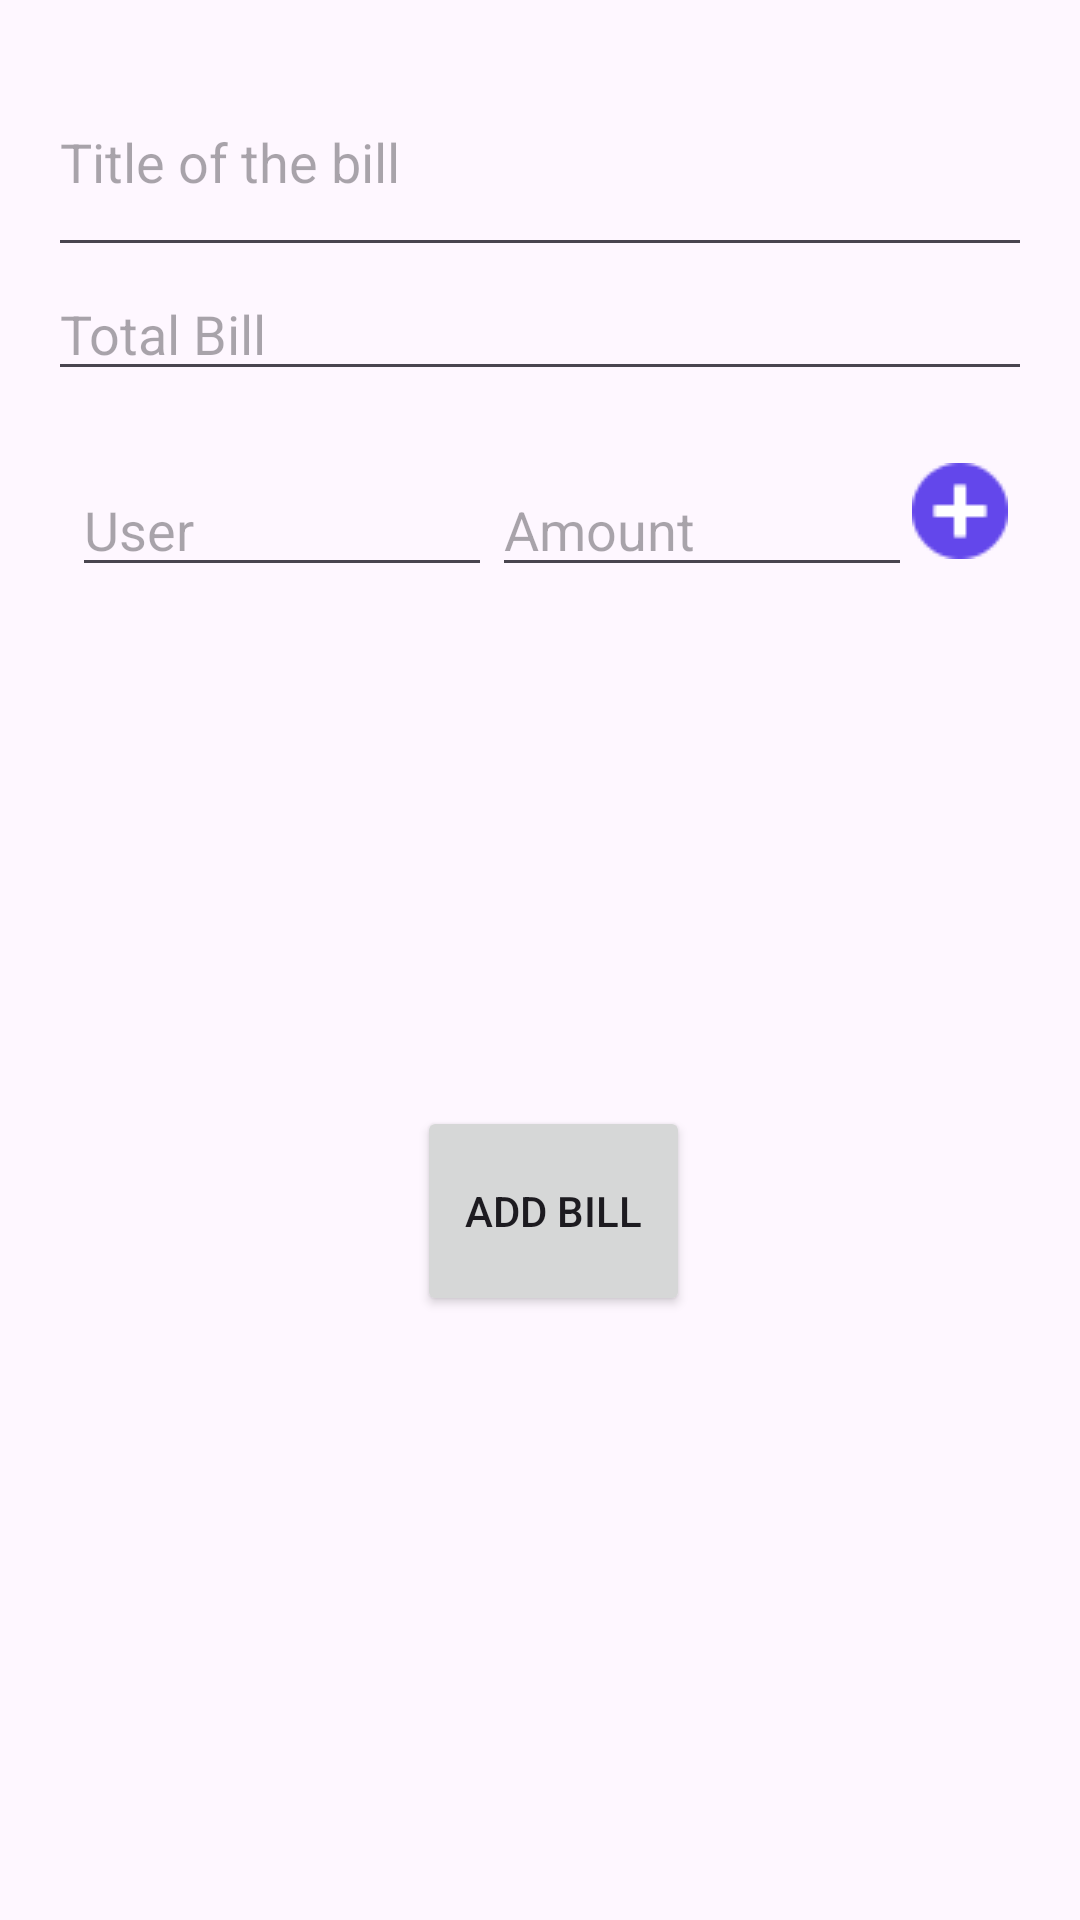

Screen size 1080px×1920px. Icon name, then its center in pixels as (x=x, y=y):
plus: (x=960, y=511)
